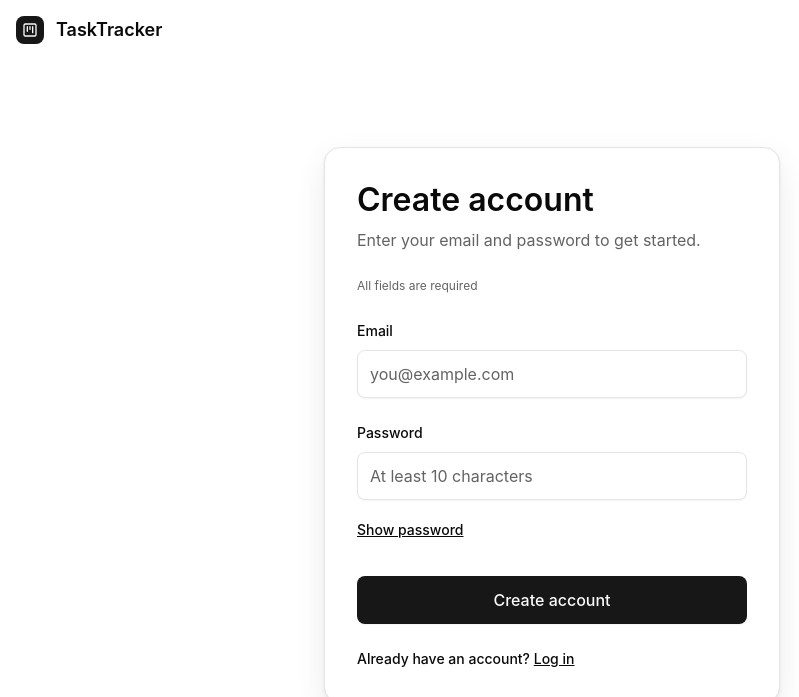
Test: RegisterPage › shows required-field errors when submitting empty form
What coordinates should you click on to do the following:
click the button "Create account"
I would click on:
 (552, 600)
Its box is [357,576,747,624].
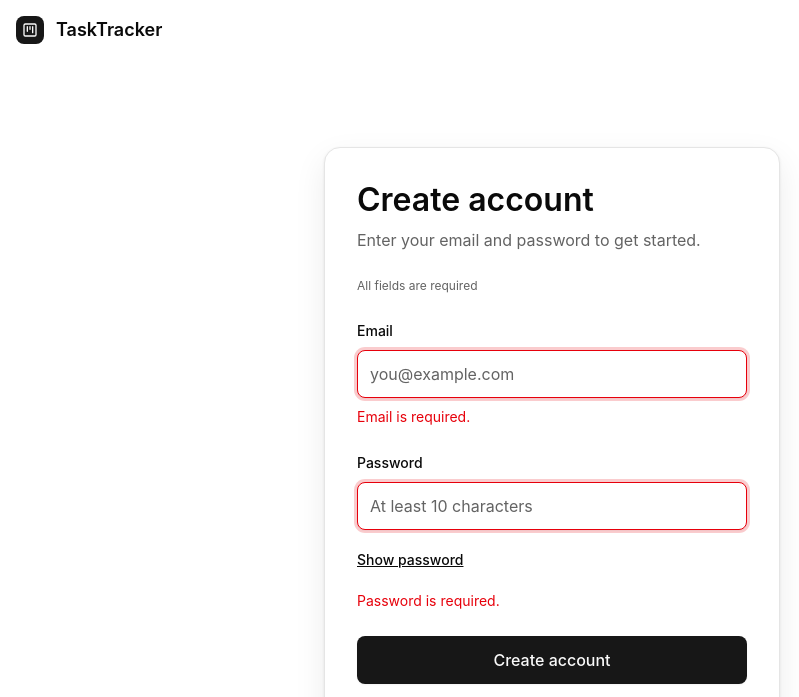
expect the text "Email is required." is shown: met, box [357,408,470,425]
expect the text "Password is required." is shown: met, box [357,592,500,609]
